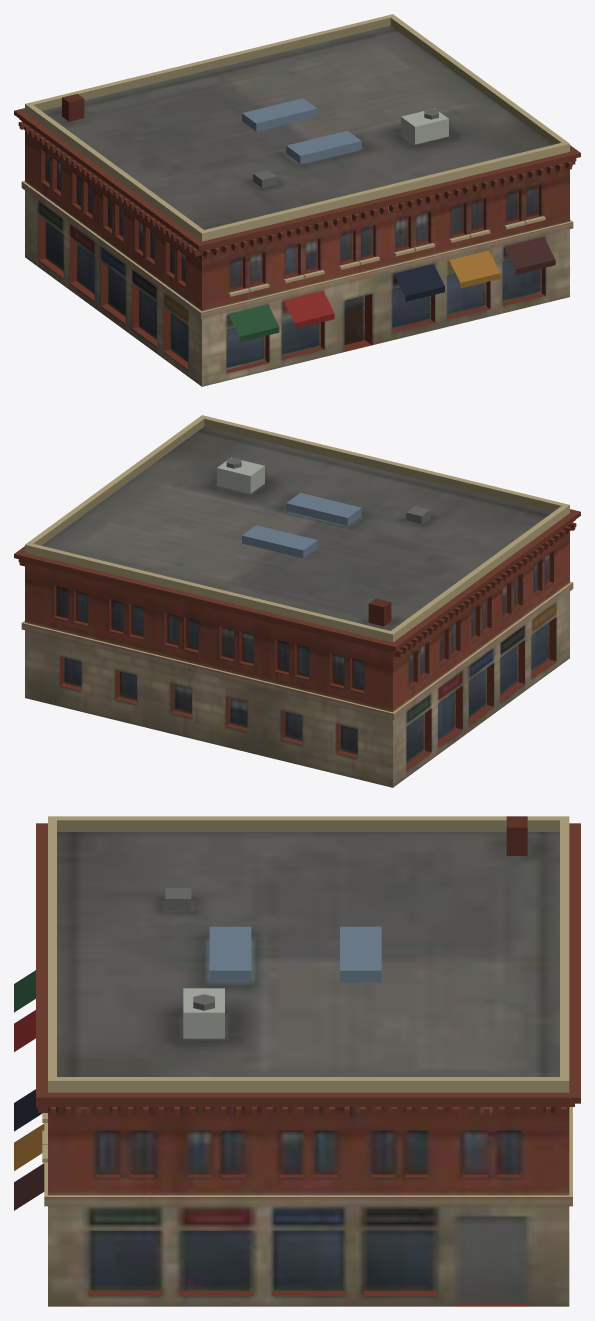
The model's file is seattle_low_c.glb.
3 renders of one model, top to bottom at view 1: azimuth 30°, elevation 25°; view 2: azimuth 150°, elevation 25°; view 3: azimuth 270°, elevation 25°, orthographic. The views are drawn at different scales.
Parts seen in each view (by area): view 1: seattle_low_c; view 2: seattle_low_c; view 3: seattle_low_c.
Boxes of the visible parts, x1=… form: seattle_low_c: x1=14, y1=14, x2=580, y2=386; seattle_low_c: x1=14, y1=415, x2=580, y2=787; seattle_low_c: x1=14, y1=816, x2=580, y2=1306.
Size of the model in its own units: 24.9 by 10.4 by 21.75.
1 material, 1 textured.
